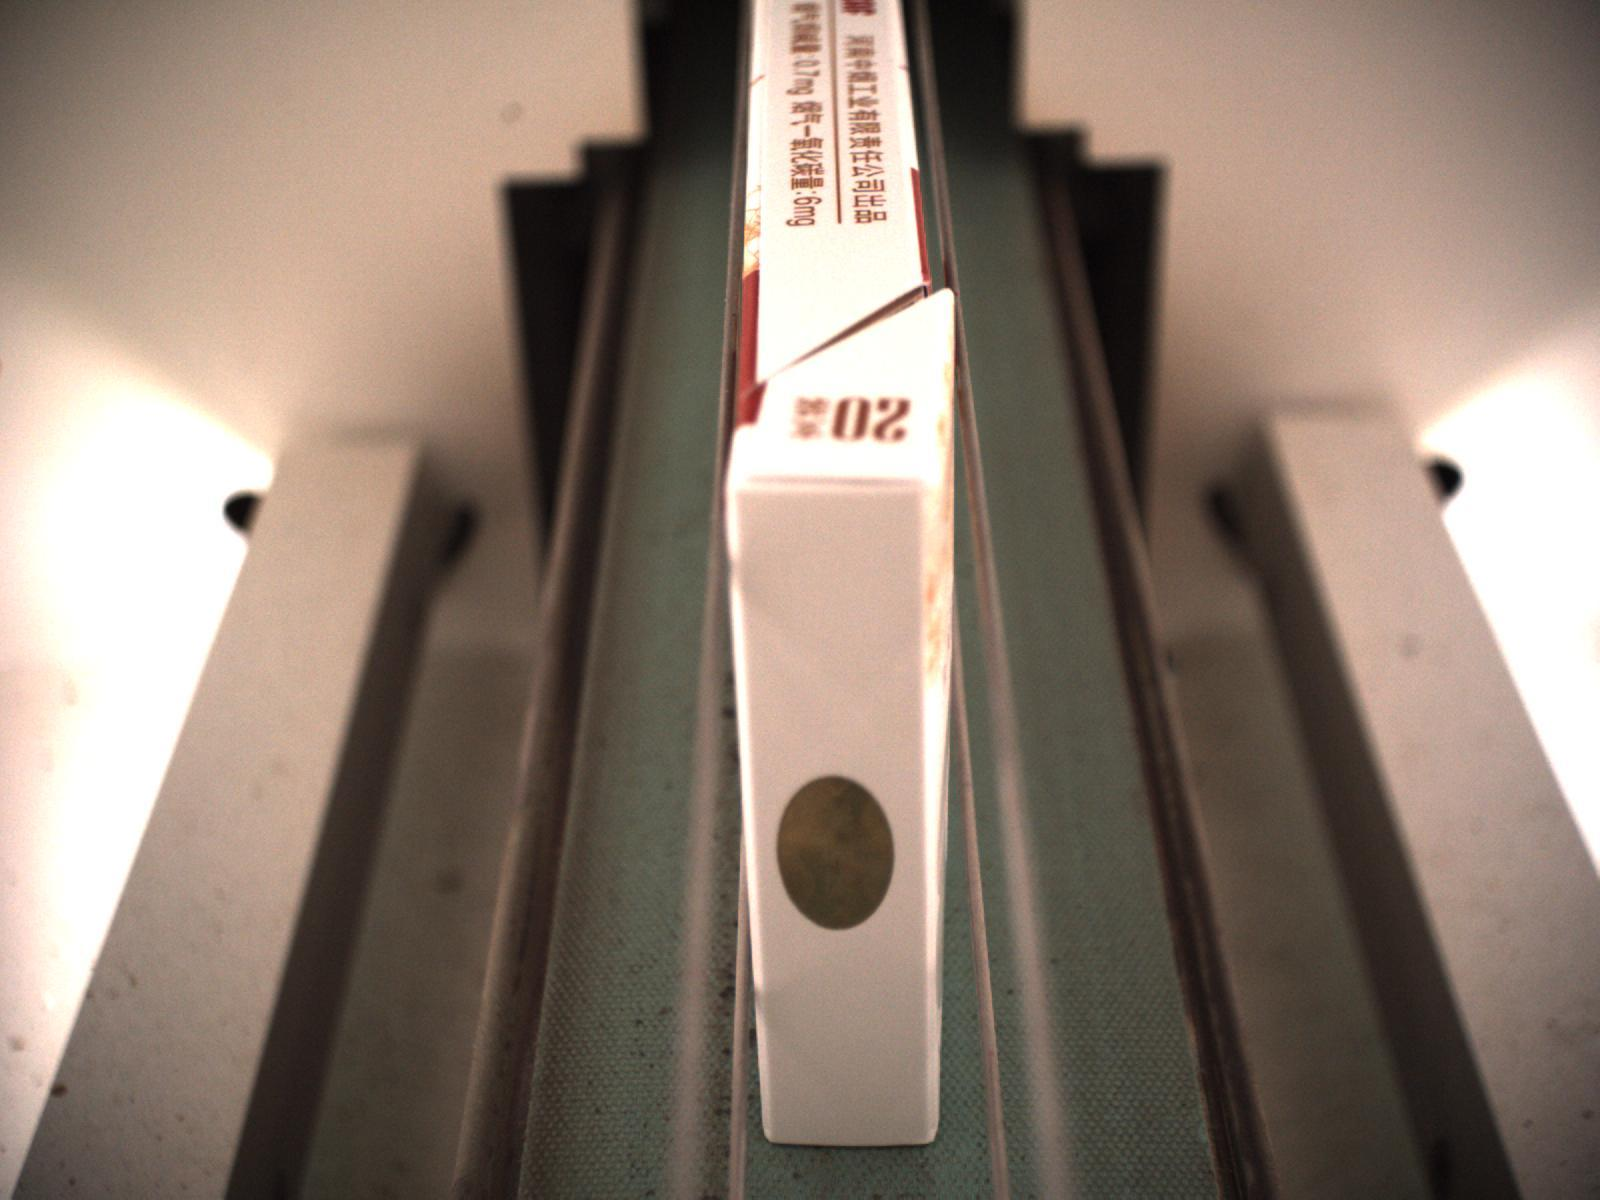headOpen_upper: (734, 277, 955, 406)
